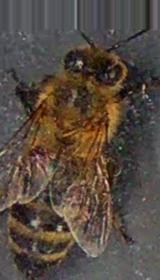varroa_mite: (16, 140, 56, 176)
